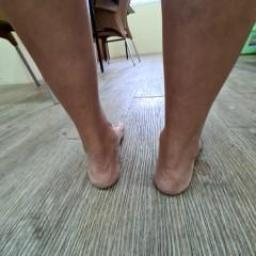Back View -Both Feet-: (58, 103, 220, 208)
